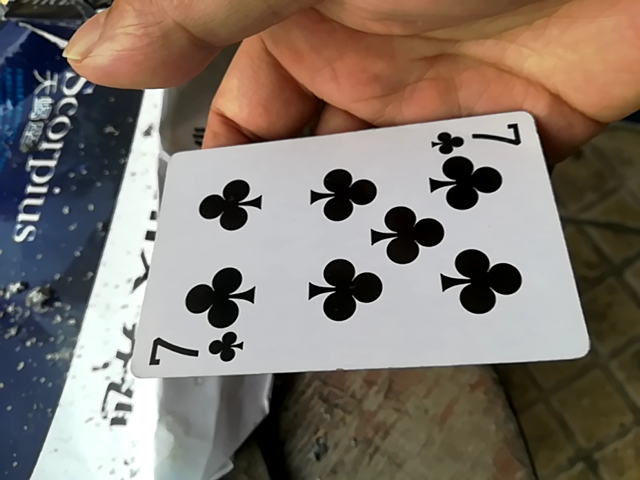mh 7: (78, 114, 590, 393)
